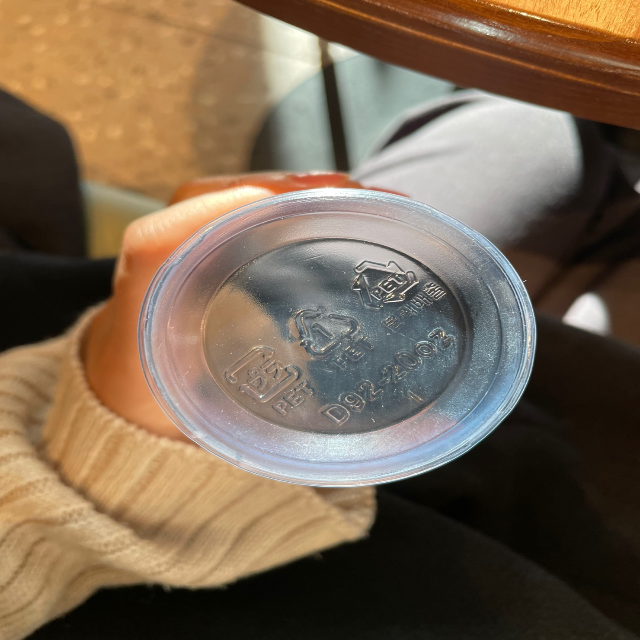pet: (346, 249, 450, 334), (218, 340, 320, 417), (289, 298, 377, 371)
